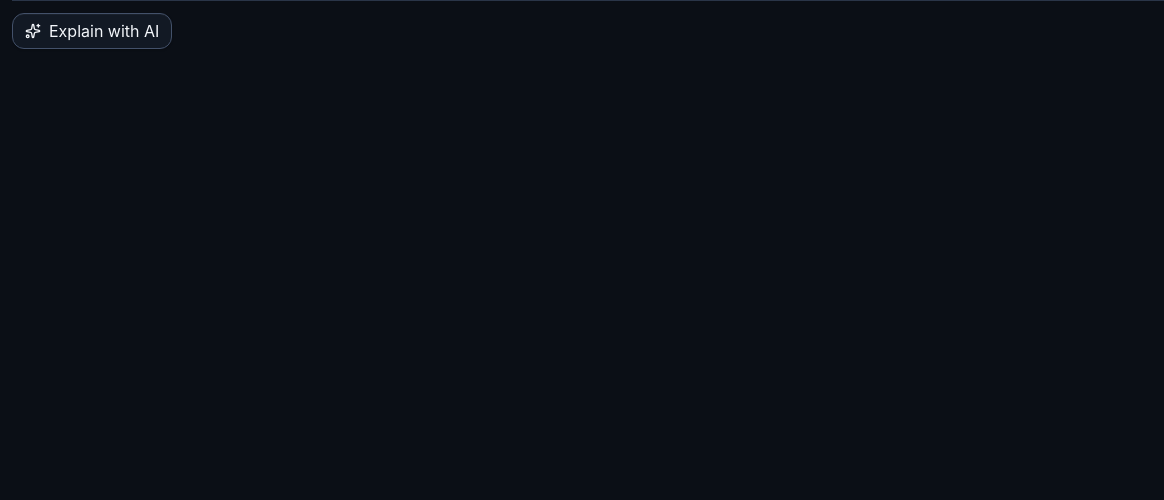
Test: AiExplanation › labels development-mock output and separates its explanation sections
Click the button "Explain with AI": (92, 31) [12,13,172,49]
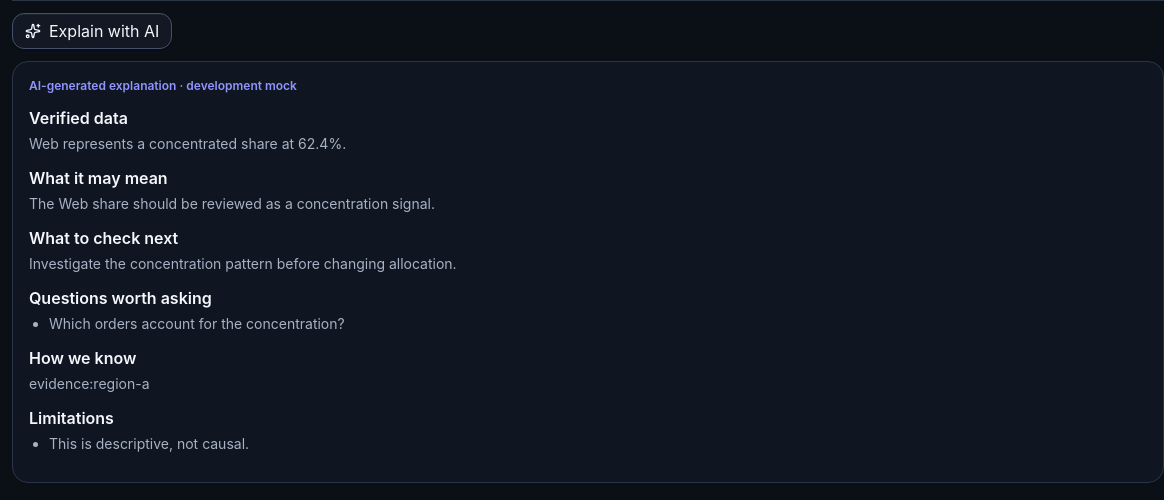
Expected: the text "AI-generated explanation · development mock" is shown, [29,78,297,93]
Expected: the text "Verified data" is shown, [29,108,128,128]
Expected: the text "What it may mean" is shown, [29,168,168,188]
